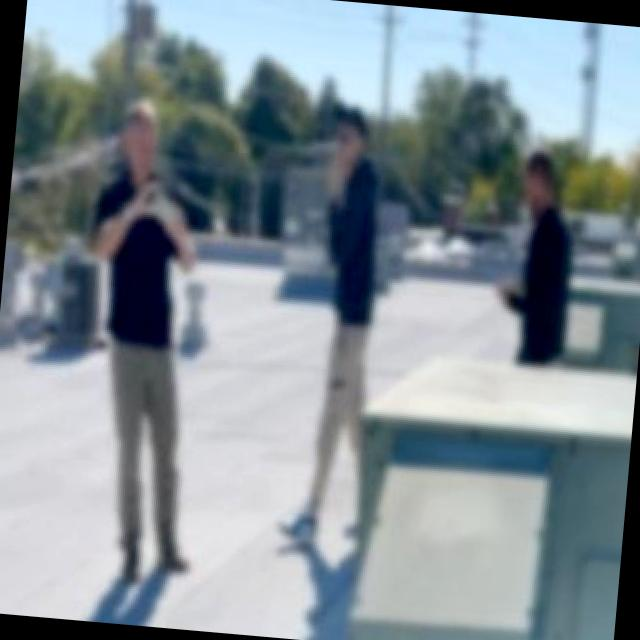RTU: (326, 343, 637, 640), (533, 263, 640, 391), (598, 220, 640, 282)
